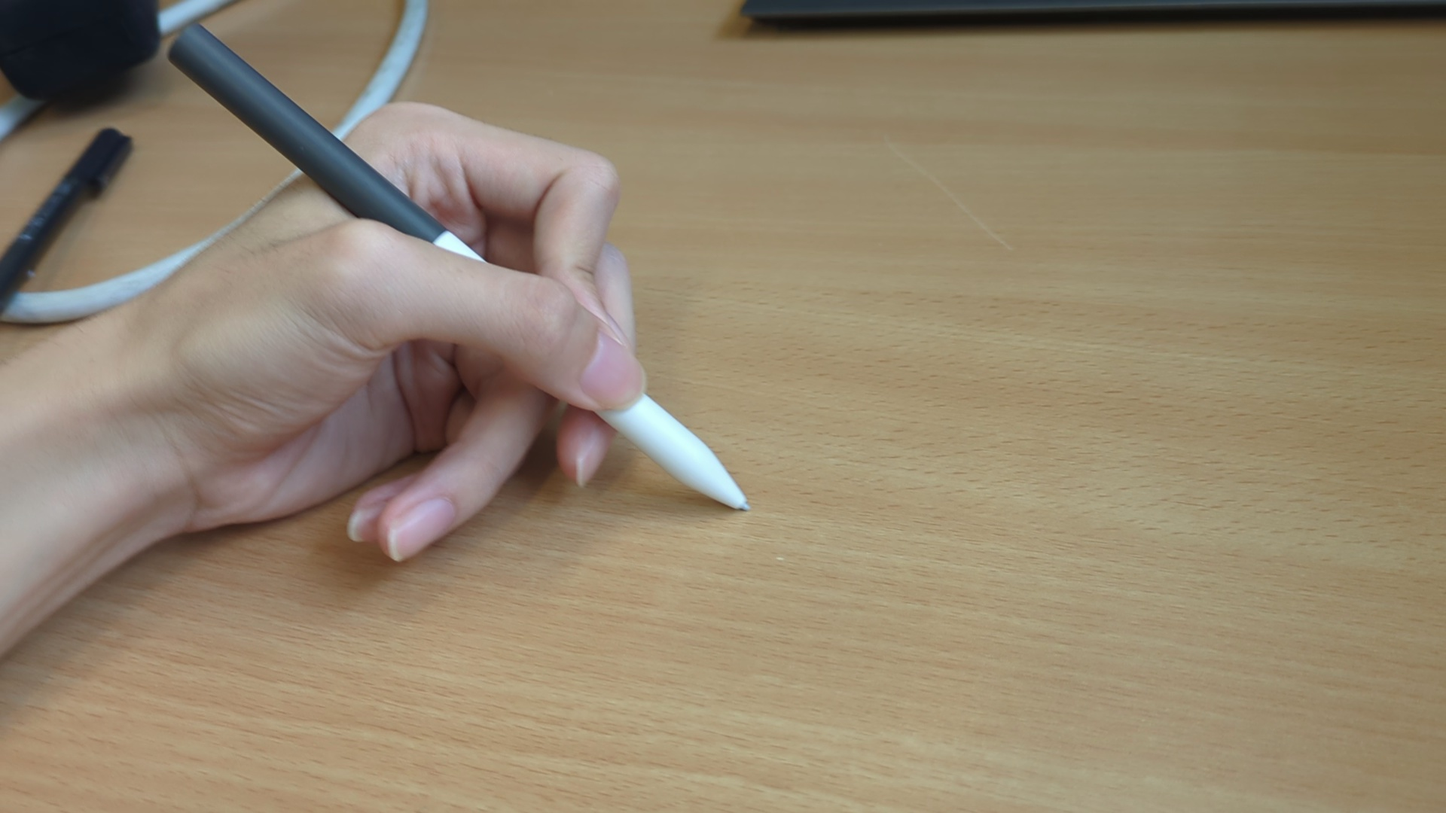pen: (163, 19, 756, 516)
tip: (729, 489, 755, 517)
